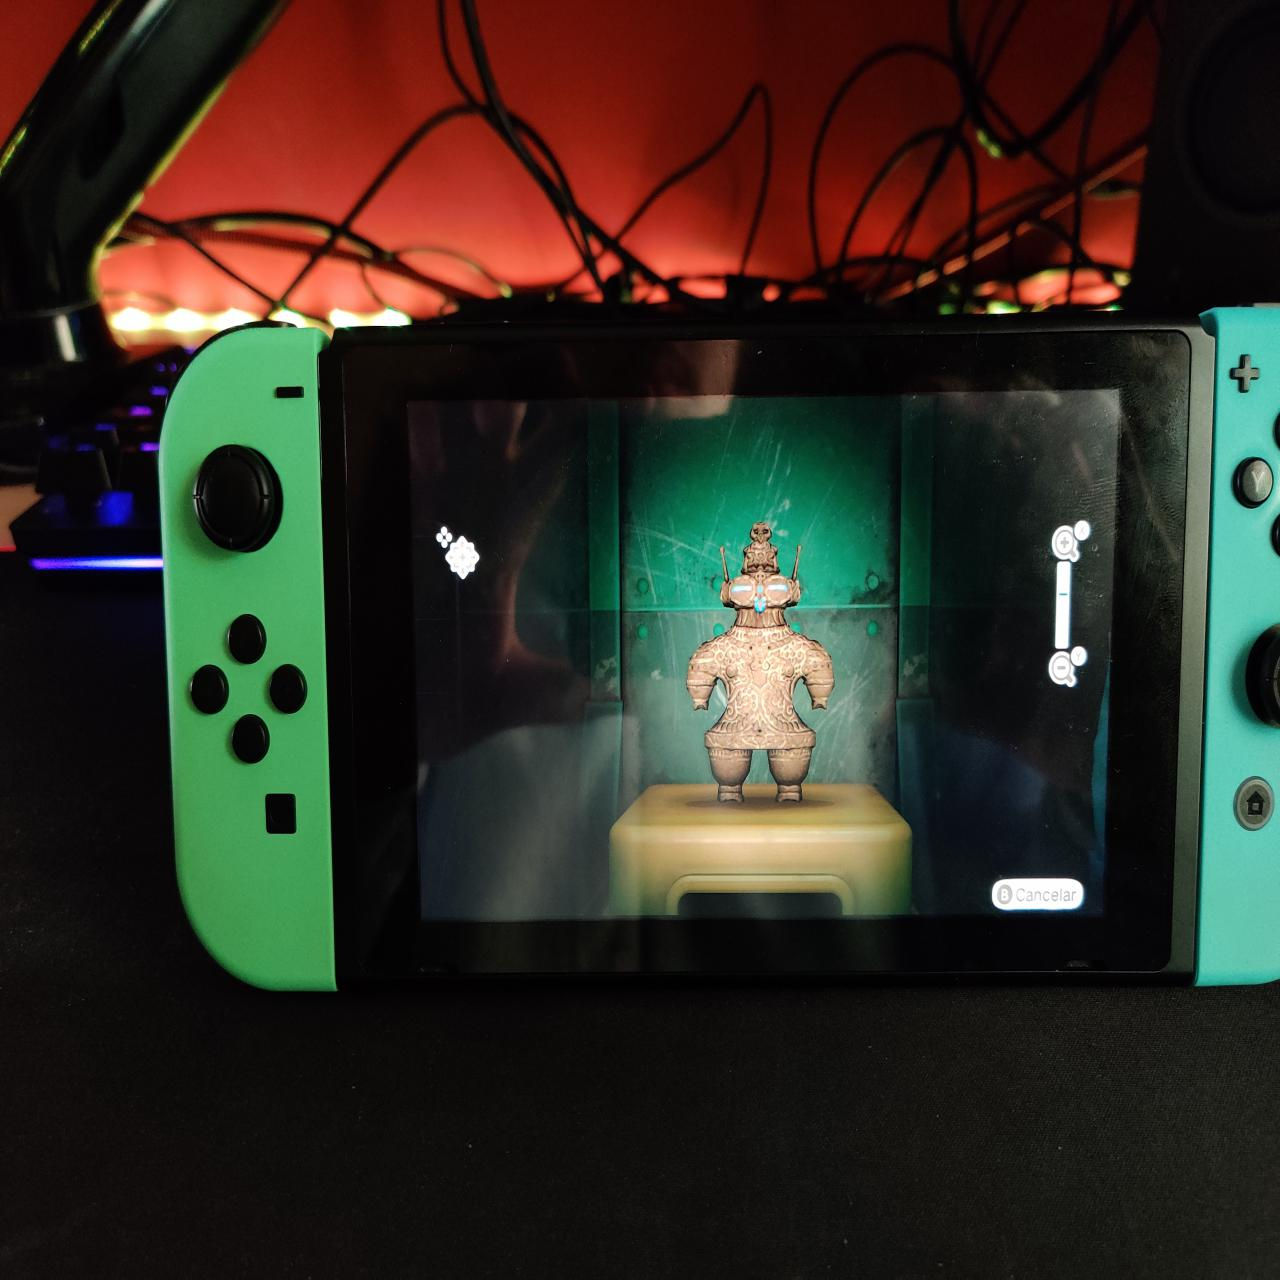DoguuFake: (686, 513, 839, 821)
